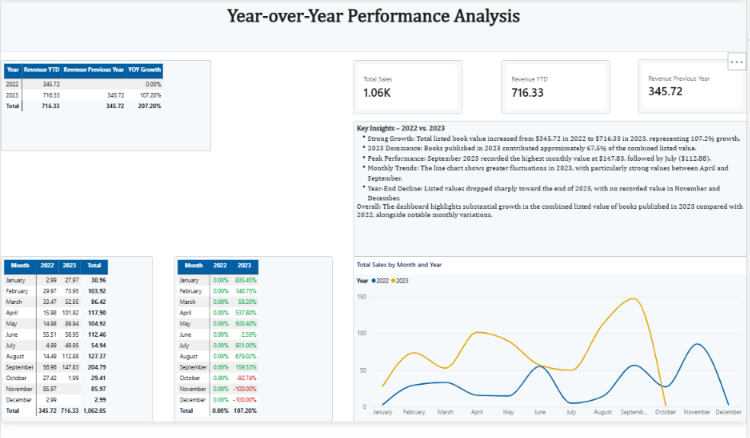

The dashboard page shown, as its layout file describes it:
{"tool":"powerbi","page":{"name":"Page 2","canvas":[1920,1080],"ordinal":1},"visuals":[{"type":"cardVisual","fields":{"Data":["Sheet2.Total Sales"]},"box":[907.7,150.3,279.9,137.9],"z":0},{"type":"cardVisual","fields":{"Data":["Sheet2.Revenue YTD"]},"box":[1288.5,150.3,279.9,137.9],"z":1000},{"type":"cardVisual","fields":{"Data":["Sheet2.Revenue Previous Year"]},"box":[1640.5,148.2,279.9,137.9],"z":2000},{"type":"pivotTable","fields":{"Rows":["Sheet2.publishedDate.Variation.Date Hierarchy.Year"],"Values":["Sheet2.Revenue YTD","Sheet2.Revenue Previous Year","Sheet2.YOY Growth"]},"box":[0,150.3,541.3,232.6],"z":3000},{"type":"lineChart","fields":{"Category":["Sheet2.publishedDate.Variation.Date Hierarchy.Month"],"Series":["Sheet2.publishedDate.Variation.Date Hierarchy.Year"],"Y":["Sheet2.Total Sales"]},"box":[907.7,654.5,1012.7,426.1],"z":4000},{"type":"pivotTable","fields":{"Columns":["Sheet2.publishedDate.Variation.Date Hierarchy.Year"],"Rows":["Sheet2.publishedDate.Variation.Date Hierarchy.Month"],"Values":["Sheet2.Total Sales"]},"box":[0,654.5,391.1,426.1],"z":5000},{"type":"pivotTable","fields":{"Columns":["Sheet2.publishedDate.Variation.Date Hierarchy.Year"],"Rows":["Sheet2.publishedDate.Variation.Date Hierarchy.Month"],"Values":["Sheet2.YOY Growth"]},"box":[446.7,654.5,407.5,426.1],"z":6000},{"type":"textbox","box":[907.7,306.7,1012.7,347.9],"z":6001},{"type":"textbox","box":[0,0,1920.4,127.6],"z":6002}]}

Visuals, with their boxes on the page's 1920x1080 design canvas (x1, y1, x2, y2). These are canvas units, not pixel positions in the 750x438 screenshot, which may show the page scaled, cropped or inside an application window:
cardVisual - Sheet2.Total Sales: <box>908,150,1188,288</box>
cardVisual - Sheet2.Revenue YTD: <box>1288,150,1568,288</box>
cardVisual - Sheet2.Revenue Previous Year: <box>1640,148,1920,286</box>
pivotTable - Sheet2.publishedDate.Variation.Date Hierarchy.Year x Sheet2.Revenue YTD: <box>0,150,541,383</box>
lineChart - Sheet2.publishedDate.Variation.Date Hierarchy.Month x Sheet2.publishedDate.Variation.Date Hierarchy.Year: <box>908,654,1920,1081</box>
pivotTable - Sheet2.publishedDate.Variation.Date Hierarchy.Year x Sheet2.publishedDate.Variation.Date Hierarchy.Month: <box>0,654,391,1081</box>
pivotTable - Sheet2.publishedDate.Variation.Date Hierarchy.Year x Sheet2.publishedDate.Variation.Date Hierarchy.Month: <box>447,654,854,1081</box>
textbox: <box>908,307,1920,655</box>
textbox: <box>0,0,1920,128</box>
